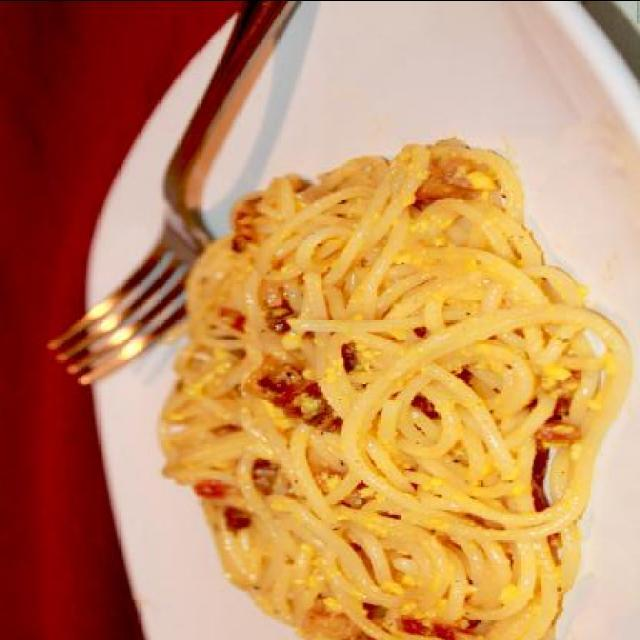Pasta with carbonara sauce: (129, 103, 603, 634)
